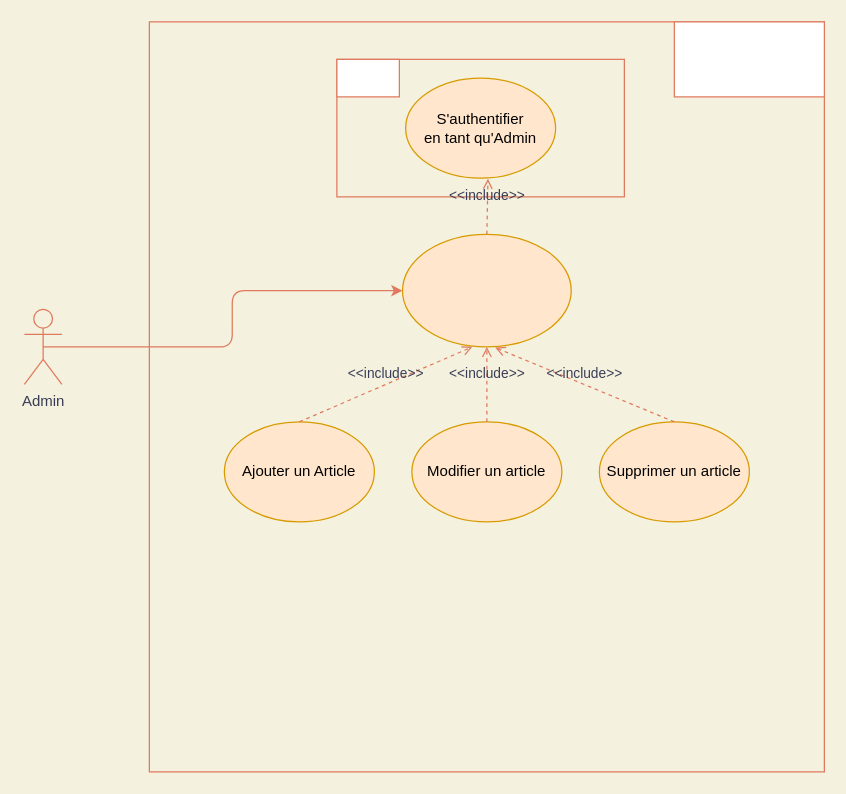
This 846x794 diagram has some shape labels left out. The centre of each missing label's shape, as x and y in pixels:
"Accèder à la liste des articles en back-office" belongs at (486,290).
"ref" belongs at (367,77).
"Système" belongs at (748,59).
